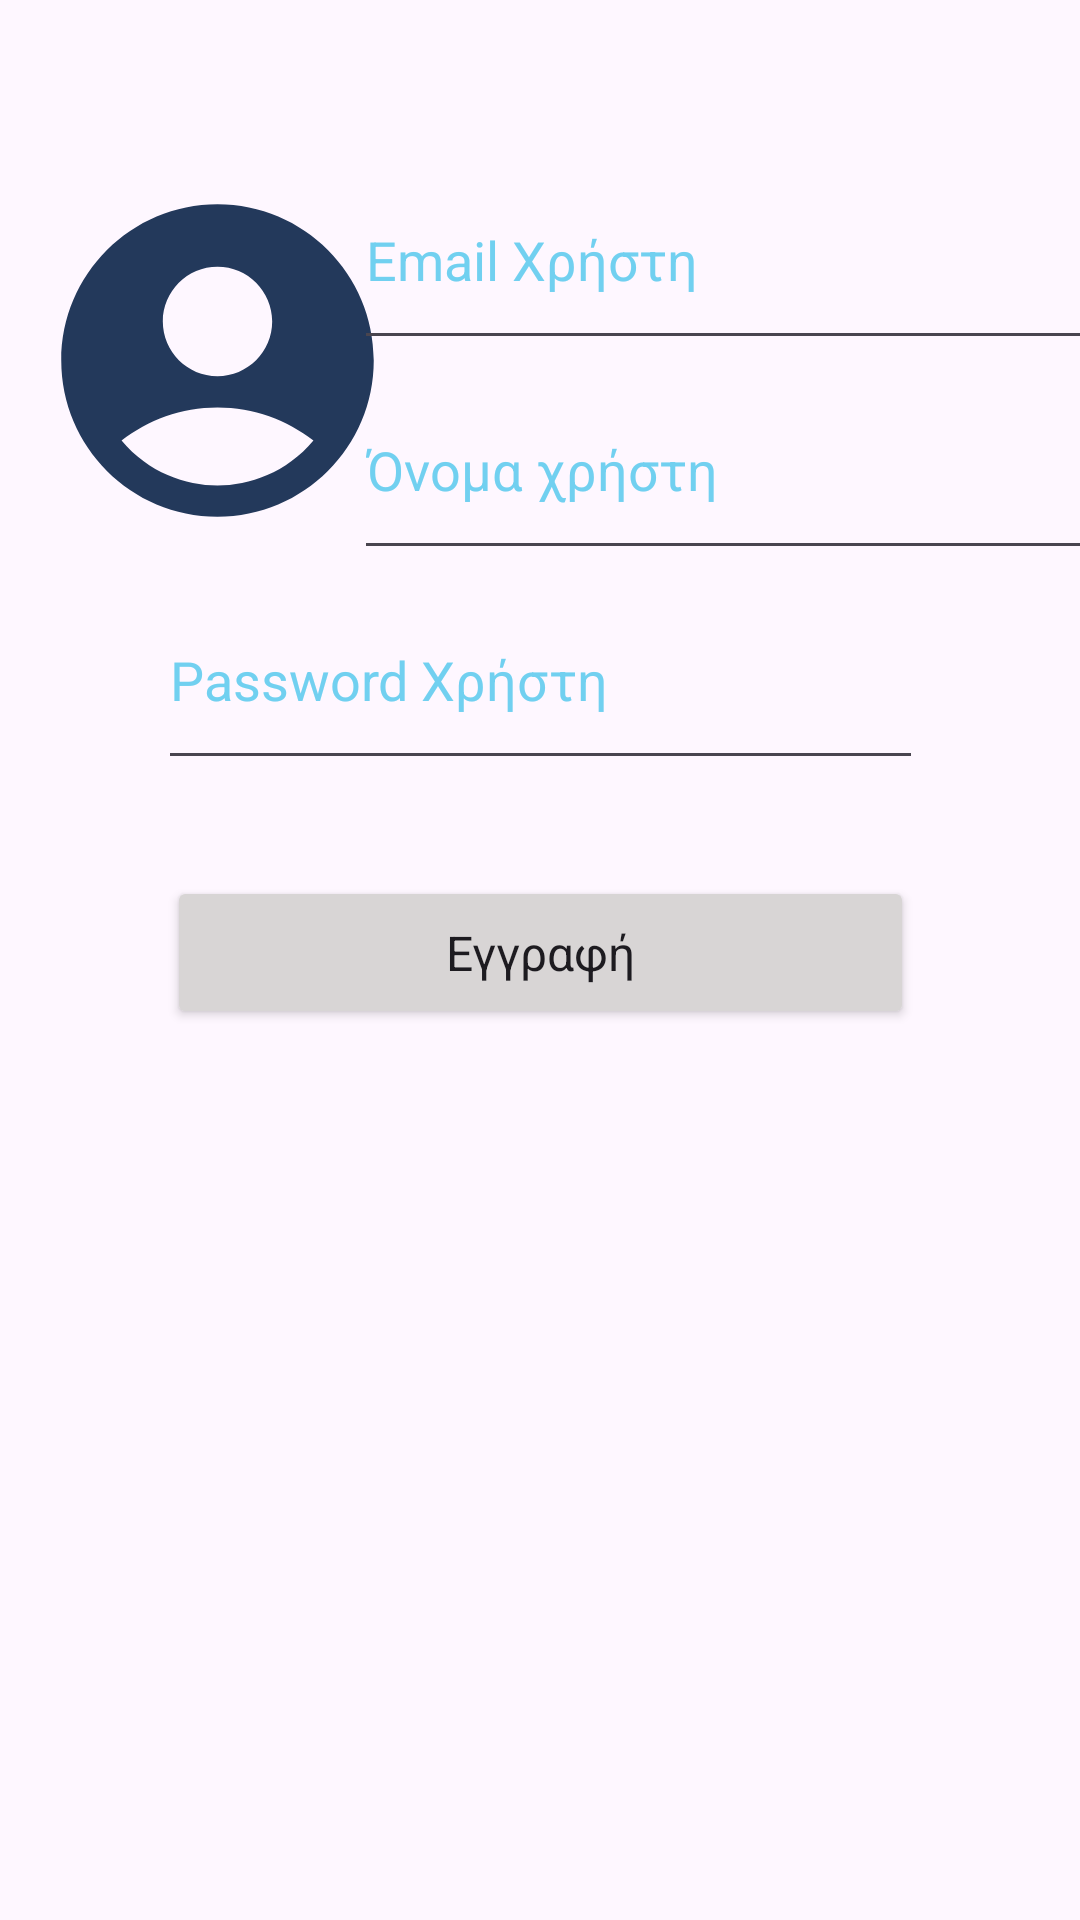

Where icons sit on this 1080 × 1920 app screen, as (x1, y1, x2, y2):
Profile Image: (61, 204, 405, 546)
